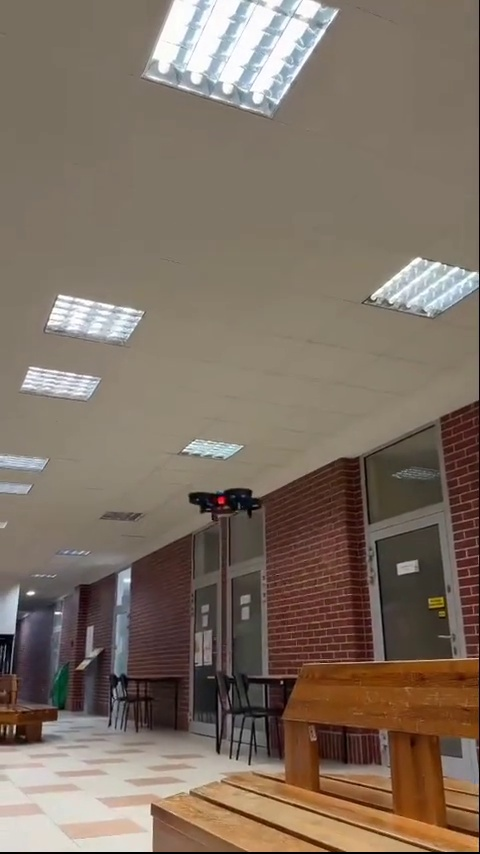drone: (186, 482, 261, 521)
